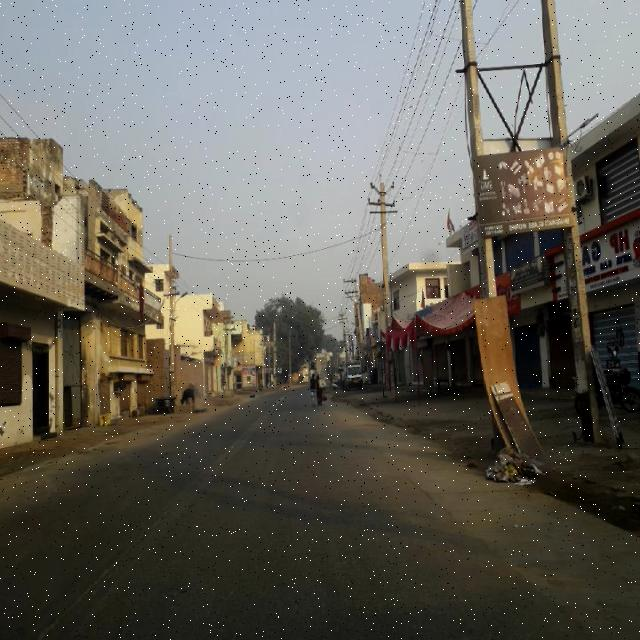D01: (18, 503, 170, 637)
D44: (16, 542, 136, 639), (139, 448, 239, 540)
